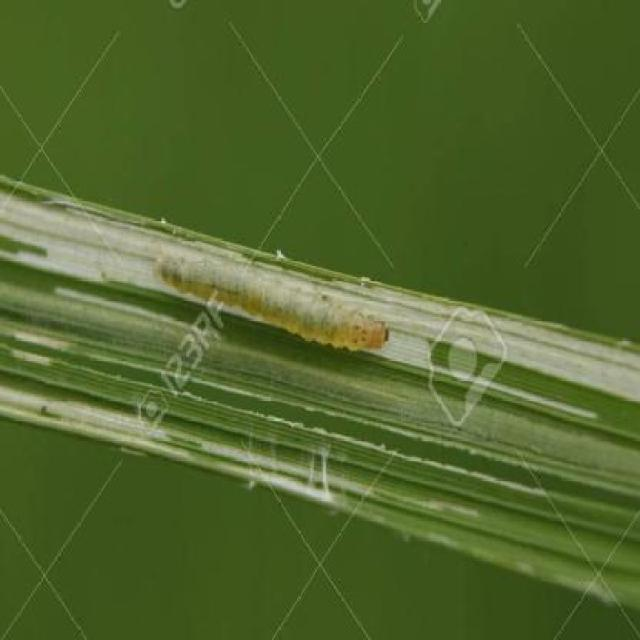leaf-folder: (133, 201, 398, 373)
